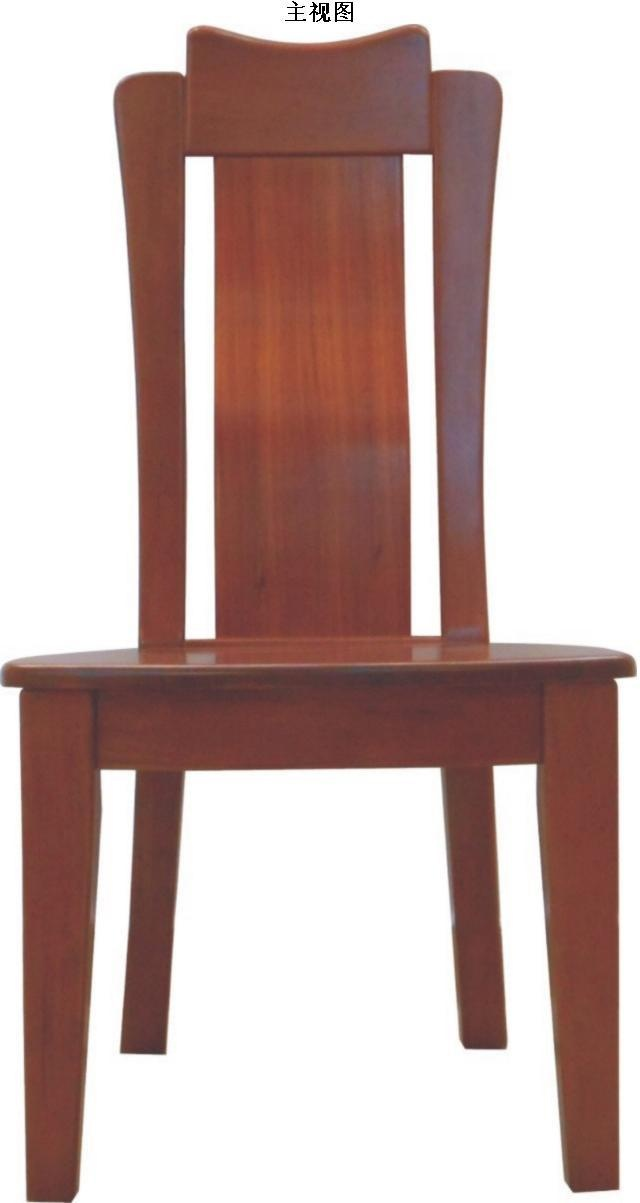obstacle: (5, 27, 632, 1200)
